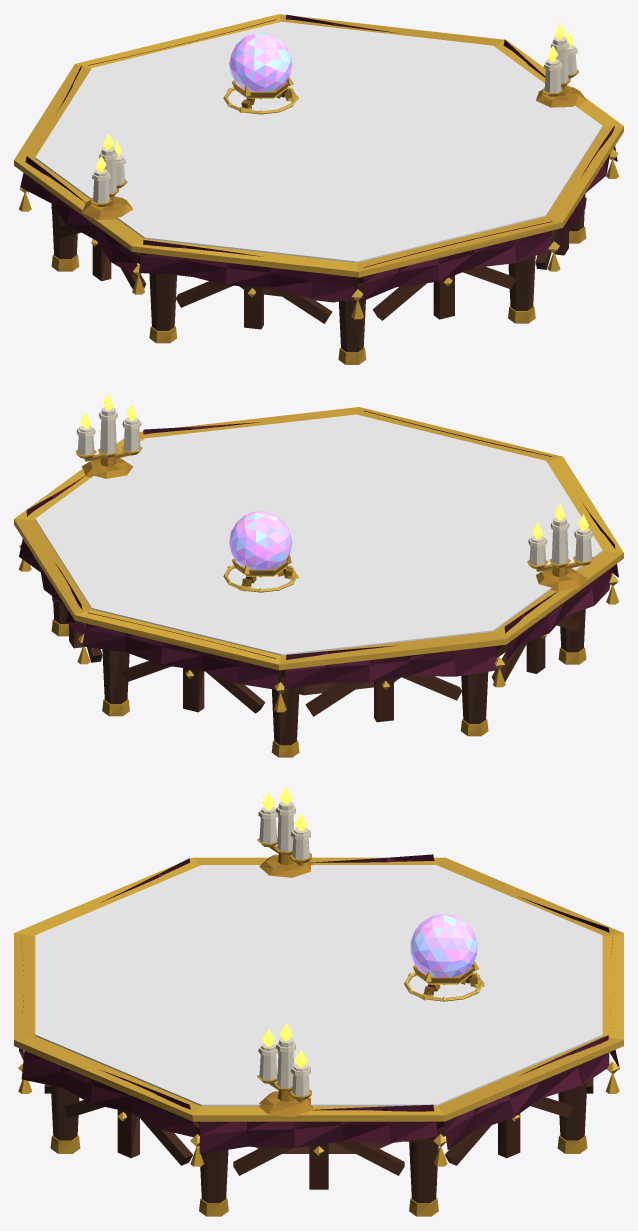
The model's file is divination_table.glb.
3 renders of one model, top to bottom at view 1: azimuth 30°, elevation 25°; view 2: azimuth 150°, elevation 25°; view 3: azimuth 270°, elevation 25°, orthographic. The views are drawn at different scales.
Visible parts, largest first — view 1: OctagonalTableMesh, TabletopCrystalBall; view 2: OctagonalTableMesh, TabletopCrystalBall; view 3: OctagonalTableMesh, TabletopCrystalBall.
Boxes of the visible parts, box(x1,y1,x2,y2) form: OctagonalTableMesh: box(14, 14, 623, 364); TabletopCrystalBall: box(223, 33, 299, 114); OctagonalTableMesh: box(14, 407, 623, 757); TabletopCrystalBall: box(223, 511, 298, 592); OctagonalTableMesh: box(14, 801, 623, 1216); TabletopCrystalBall: box(404, 914, 484, 1001).
Bounding box in the file's own units: 4.57 × 1.63 × 4.49.
